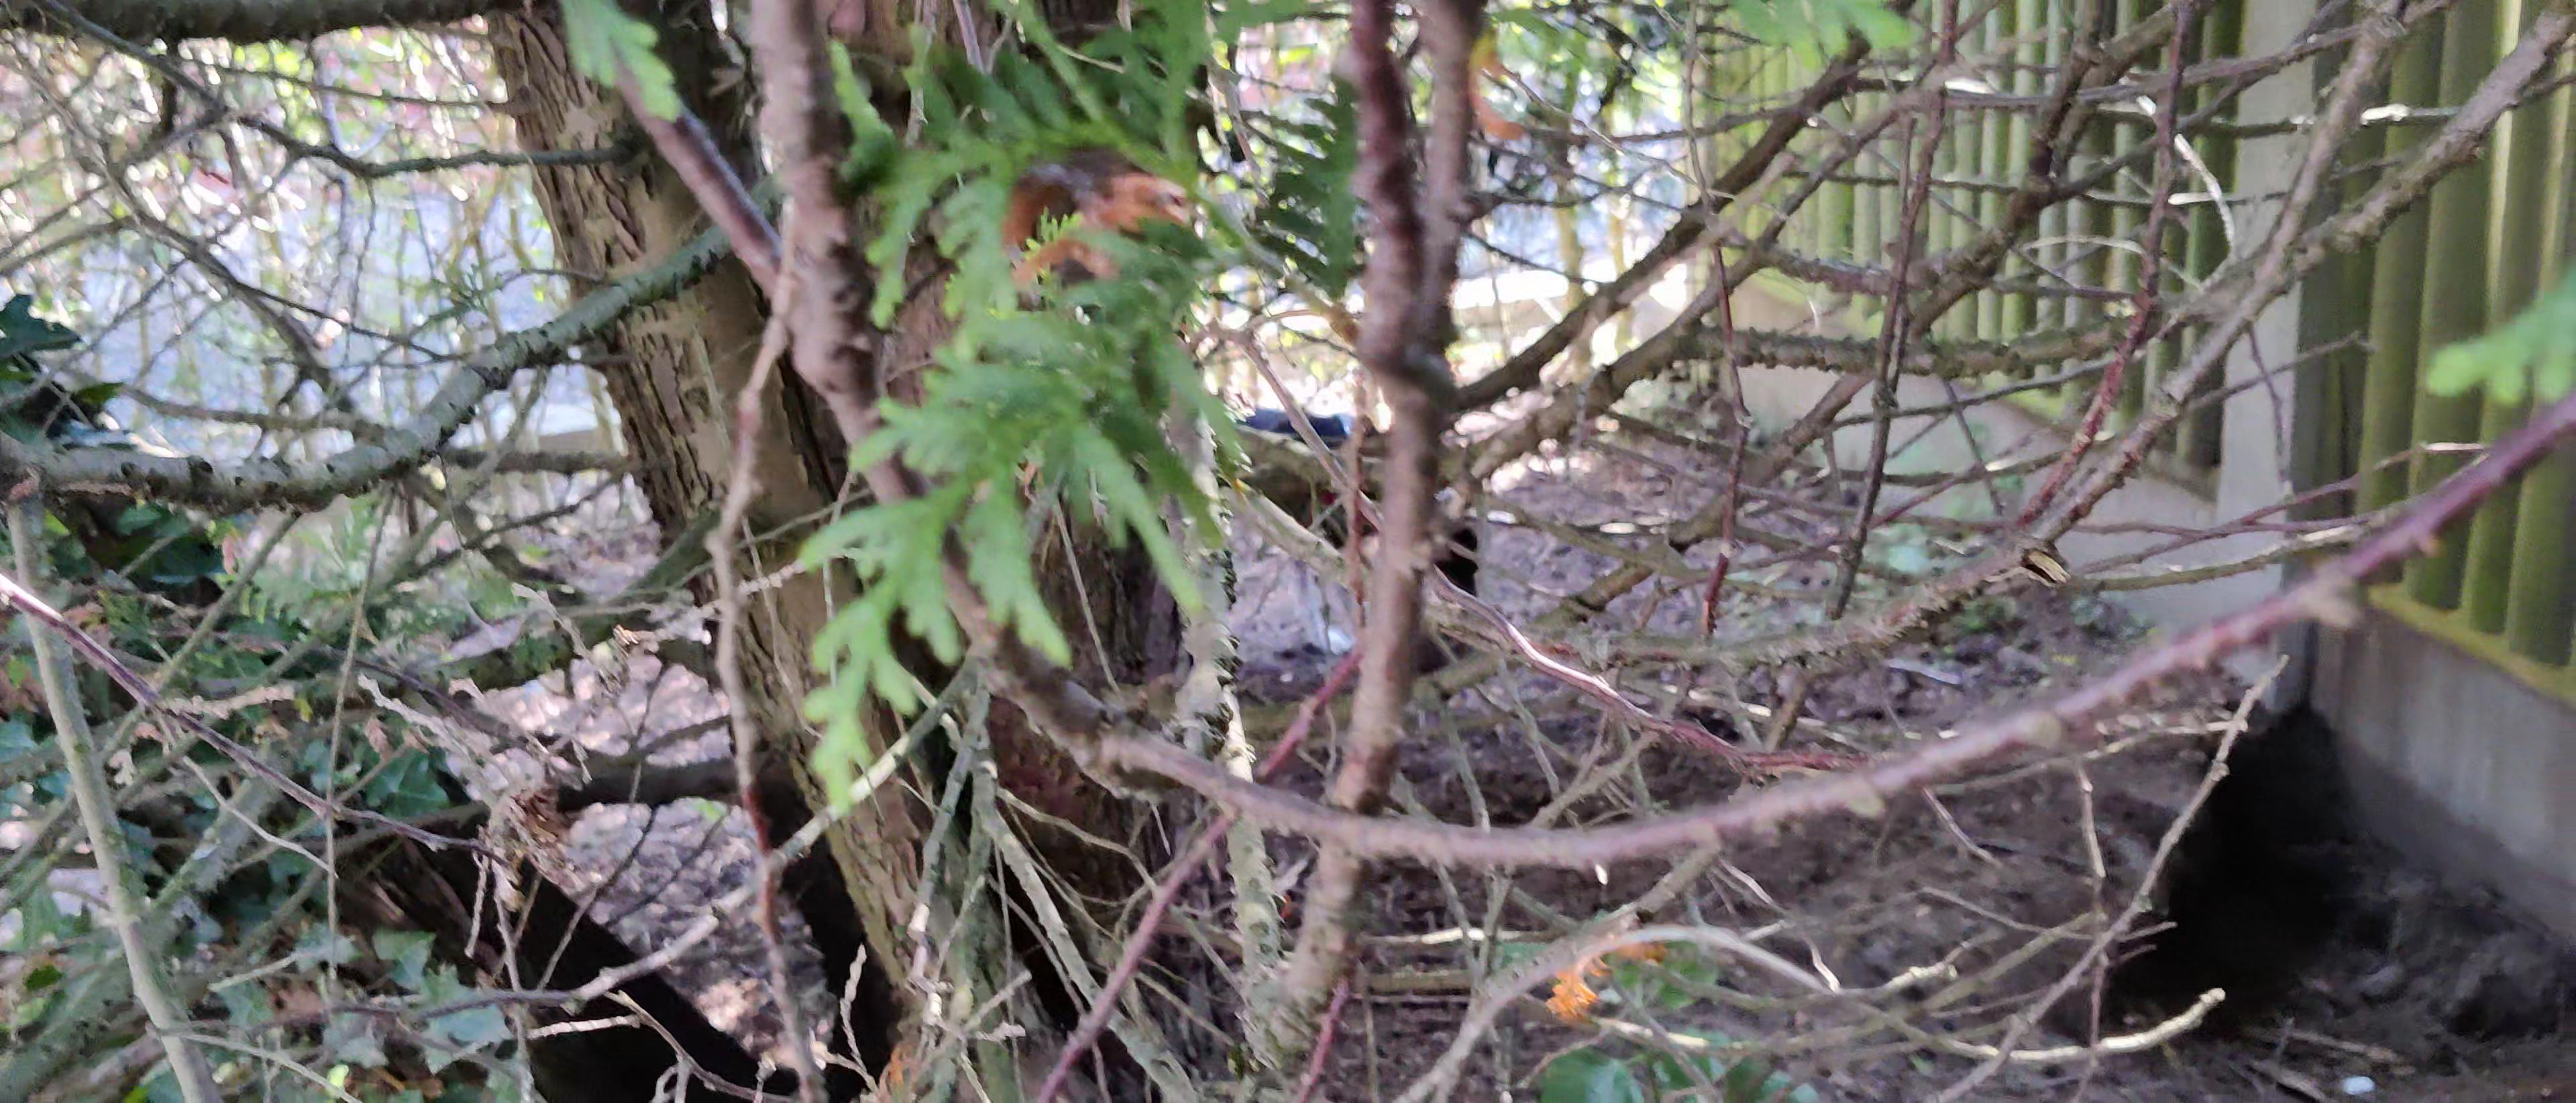Dog: (1194, 381, 1502, 659)
